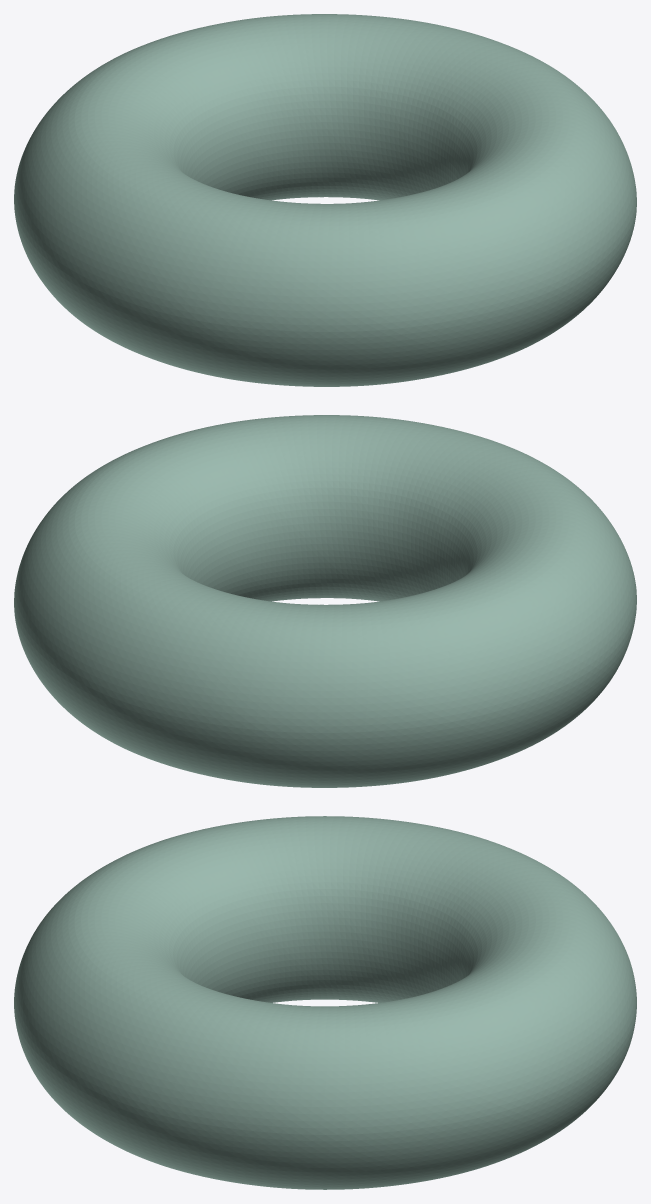
3 renders of one model, top to bottom at view 1: azimuth 30°, elevation 25°; view 2: azimuth 150°, elevation 25°; view 3: azimuth 270°, elevation 25°, orthographic.
Parts seen in each view (by area): view 1: world; view 2: world; view 3: world.
Boxes of the visible parts, x1,y1,x2,y2 form: world: [14, 14, 636, 386]; world: [14, 415, 636, 787]; world: [14, 816, 636, 1189].
Bounding box in the file's own units: 5.25 × 1.56 × 5.24.
